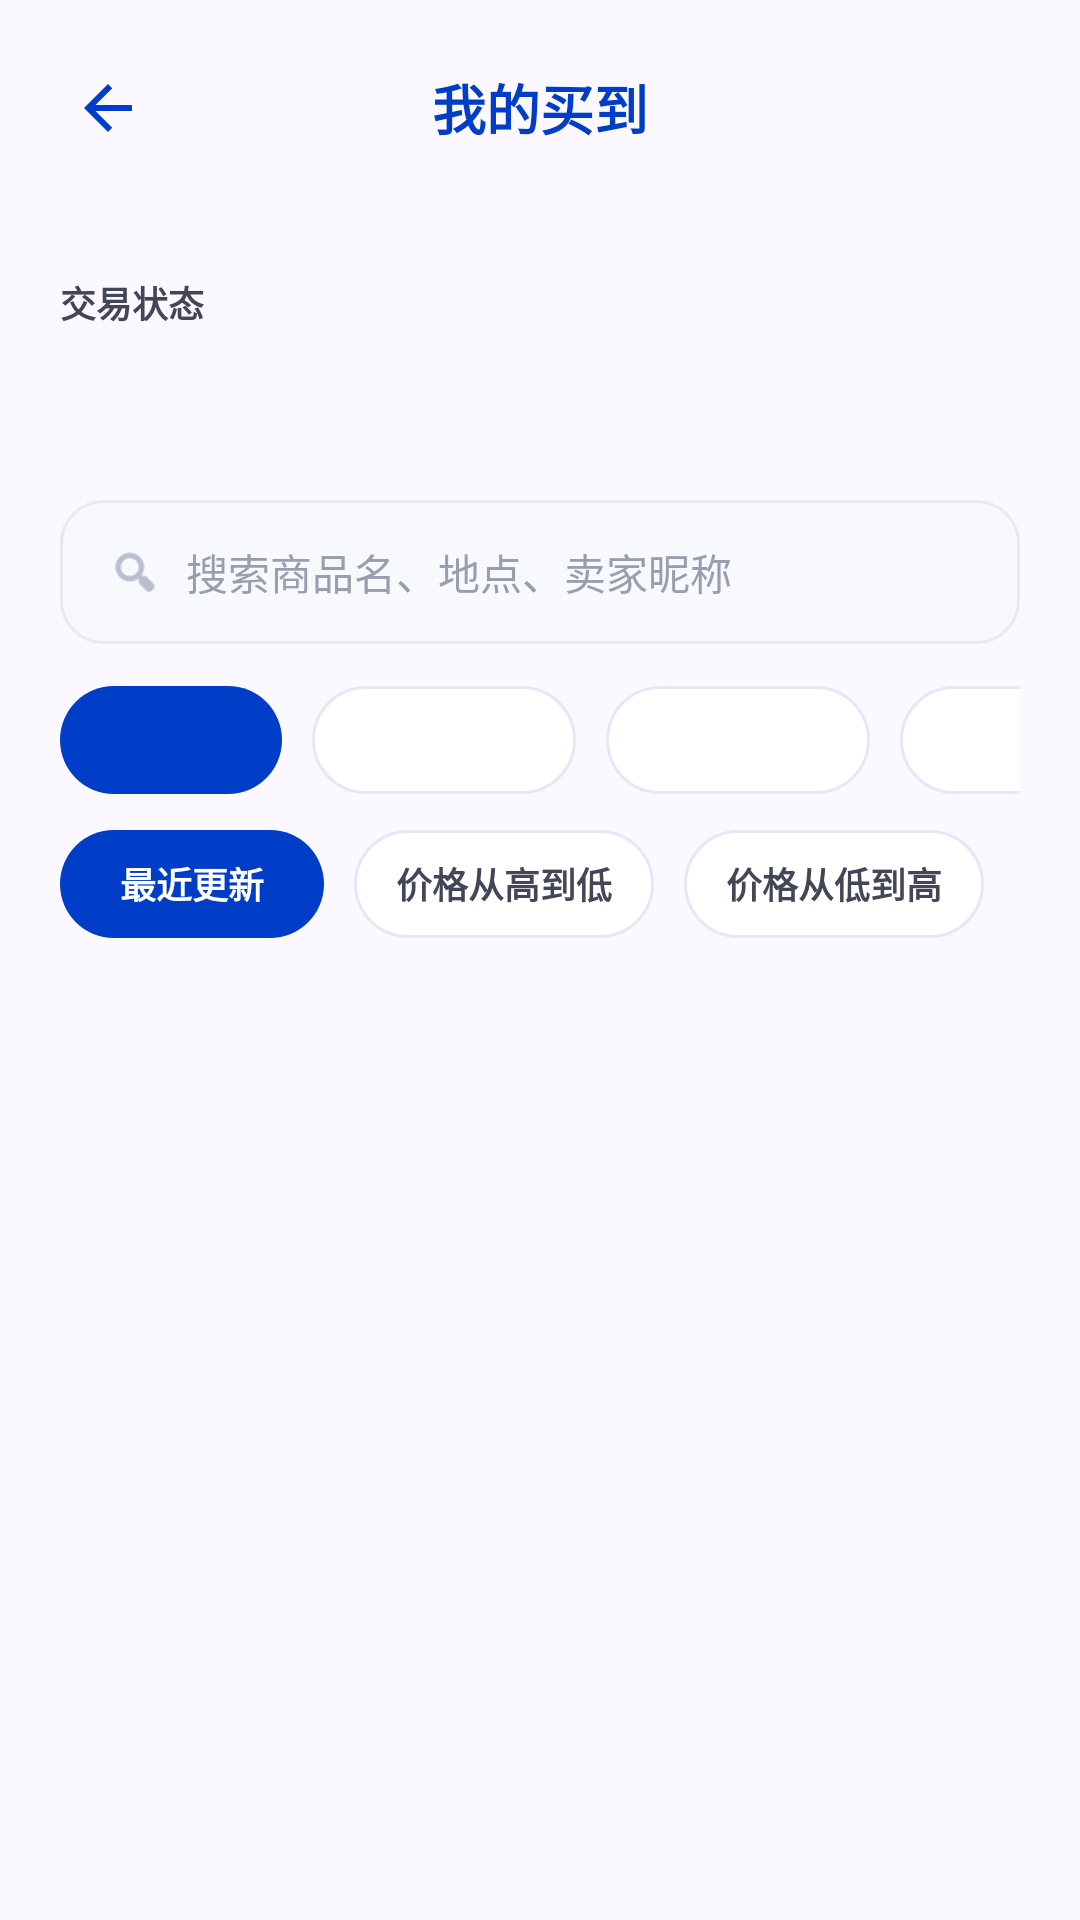

Icon bounding boxes for this 1080 x 1920 phone screenshot, format (x1, y1, x2, y2):
返回上一页: (84, 84, 132, 132)
